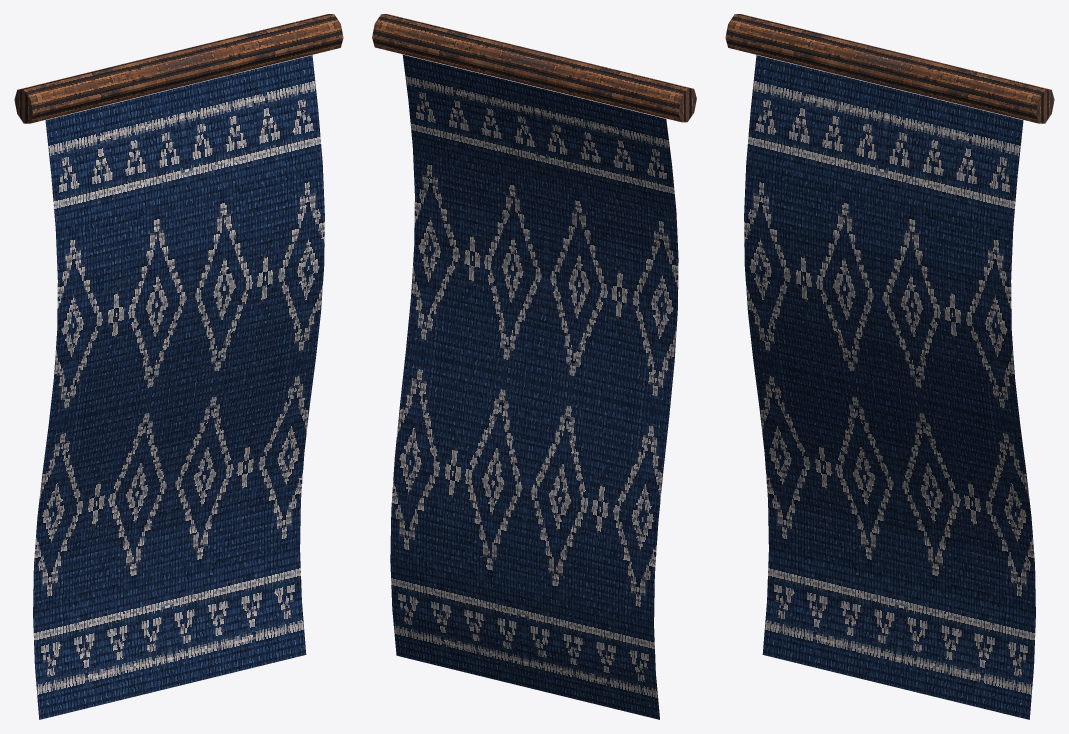
Rendered from cloth_banner.glb.
3 renders of one model, left to right at view 1: azimuth 30°, elevation 25°; view 2: azimuth 150°, elevation 25°; view 3: azimuth 330°, elevation 25°, orthographic.
Visible parts, largest first — view 1: cloth_banner_canal_indigo, cloth_banner_canal_wood; view 2: cloth_banner_canal_indigo, cloth_banner_canal_wood; view 3: cloth_banner_canal_indigo, cloth_banner_canal_wood.
Part boxes in pixels (bbox=[...]): cloth_banner_canal_indigo: bbox=[33, 55, 324, 719]; cloth_banner_canal_wood: bbox=[14, 14, 343, 123]; cloth_banner_canal_indigo: bbox=[390, 54, 678, 719]; cloth_banner_canal_wood: bbox=[372, 14, 696, 122]; cloth_banner_canal_indigo: bbox=[744, 55, 1035, 719]; cloth_banner_canal_wood: bbox=[725, 14, 1054, 123].
Bounding box in the file's own units: 0.86 × 1.7 × 0.1193.
Materials: 2 (2 with a texture image).
